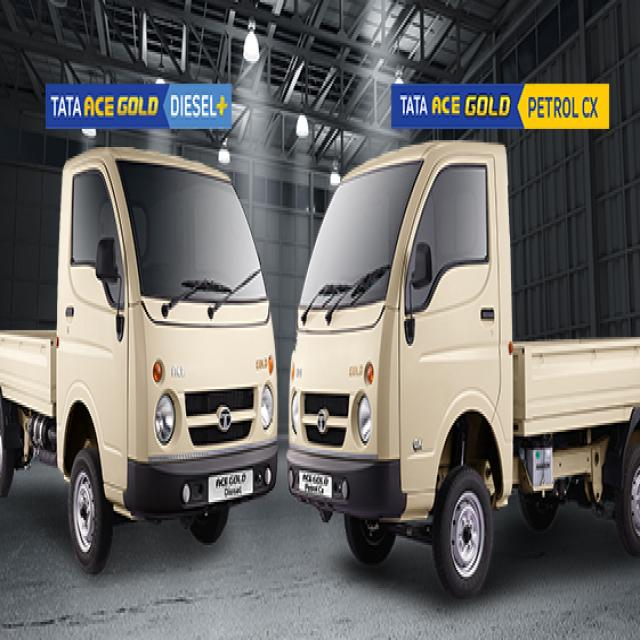truck: (288, 141, 640, 597), (0, 149, 279, 571)
